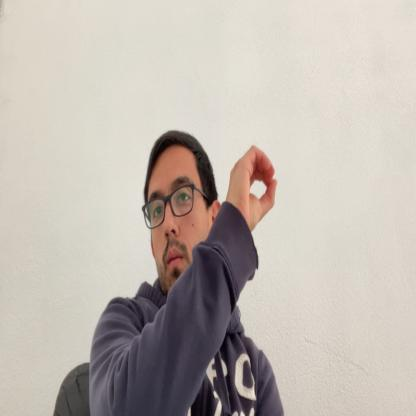O: (228, 146, 278, 233)
